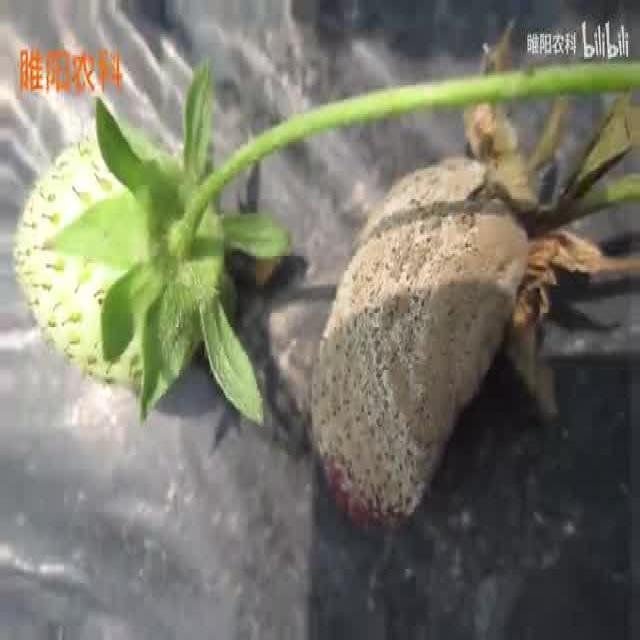Fruta sana: (16, 135, 227, 404)
Moho gris: (306, 135, 535, 535)
